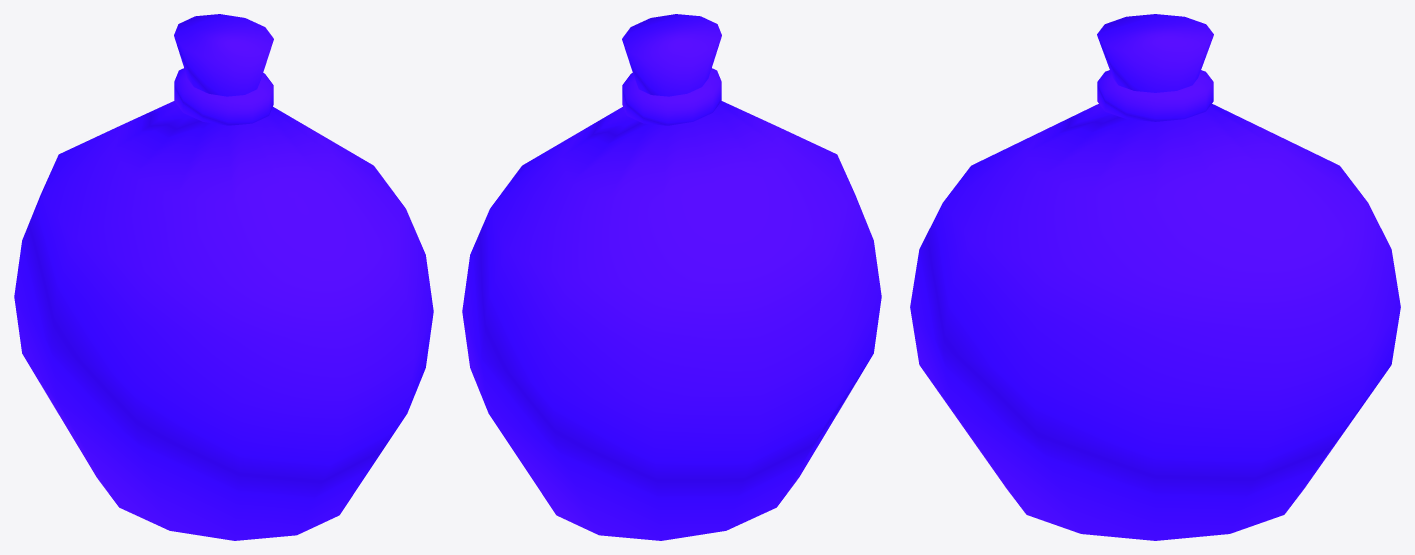
File: PotionBig.fbx
3 views of the same model, side by side, from view 1: azimuth 30°, elevation 25°; view 2: azimuth 150°, elevation 25°; view 3: azimuth 270°, elevation 25° (orthographic). The views are drawn at different scales.
Visible parts, largest first — view 1: PotionBig, PotionBigCork; view 2: PotionBig, PotionBigCork; view 3: PotionBig, PotionBigCork.
Part boxes in pixels (<box>): PotionBig: <box>14,68,433,540</box>; PotionBigCork: <box>174,14,273,96</box>; PotionBig: <box>462,68,881,540</box>; PotionBigCork: <box>622,14,721,96</box>; PotionBig: <box>910,70,1400,540</box>; PotionBigCork: <box>1097,14,1213,92</box>.
Bounding box in the file's own units: 16.87 × 20.75 × 20.32.
